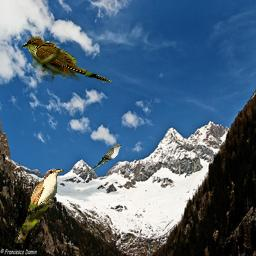Cuckoo: (21, 36, 112, 83), (14, 167, 65, 244), (86, 144, 124, 176)
